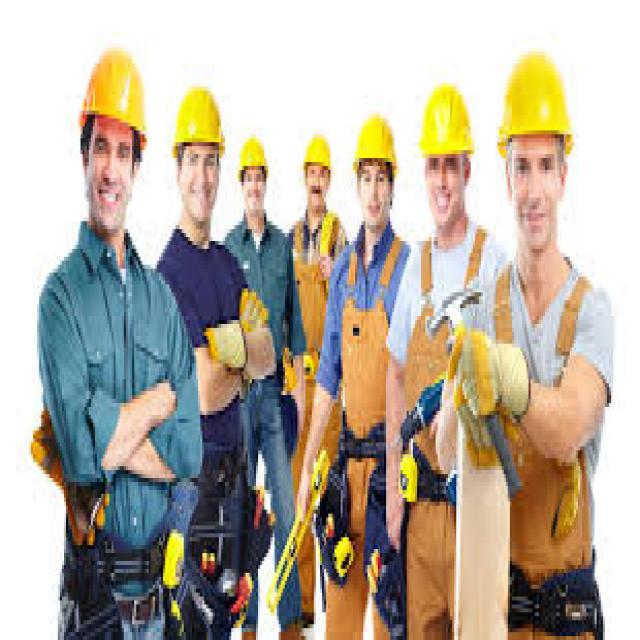Safety-Helmet: (498, 44, 576, 154), (76, 40, 151, 138), (417, 79, 477, 162), (169, 83, 227, 158), (351, 106, 398, 174), (236, 130, 270, 182), (300, 130, 334, 174)
